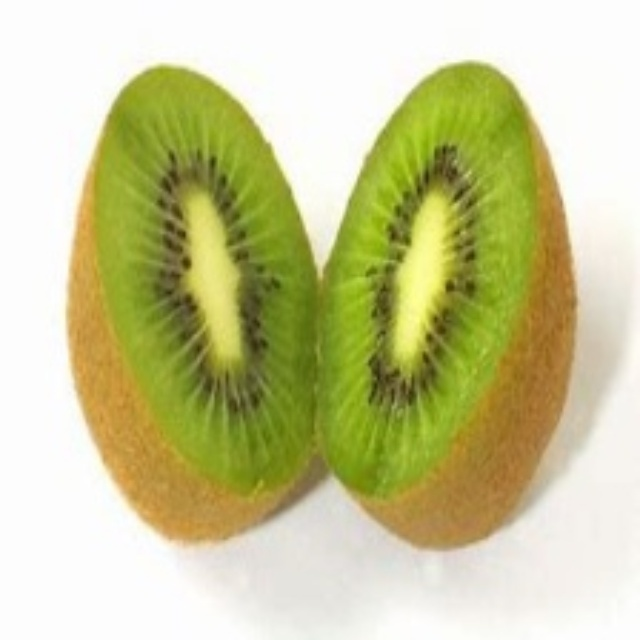kiwi: (312, 60, 583, 552), (59, 63, 326, 541)
